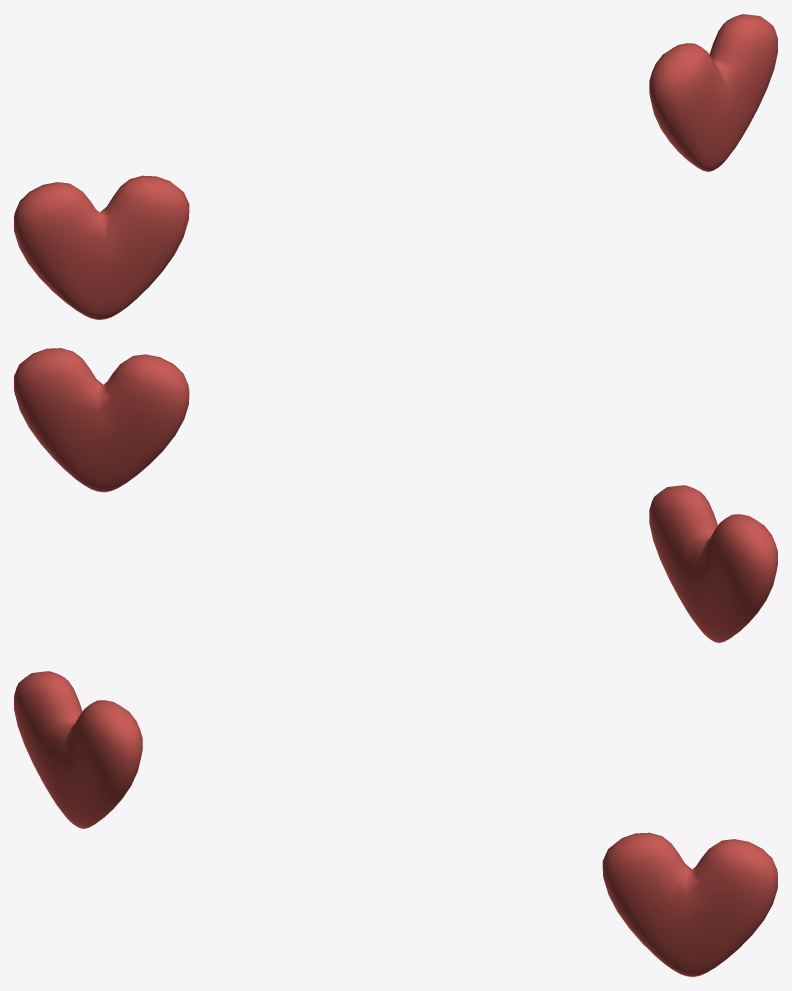
3 views of the same model, one above another, from view 1: azimuth 30°, elevation 25°; view 2: azimuth 150°, elevation 25°; view 3: azimuth 330°, elevation 25° (orthographic).
Visible parts, largest first — view 1: love_eye; view 2: love_eye; view 3: love_eye.
Boxes of the visible parts, bbox=[...] form: love_eye: bbox=[14, 14, 777, 319]; love_eye: bbox=[14, 348, 777, 642]; love_eye: bbox=[14, 671, 777, 976].
Size of the model in its own units: 0.9549 by 0.1669 by 0.0969.
